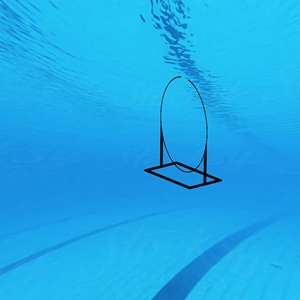circle: (141, 73, 227, 194)
